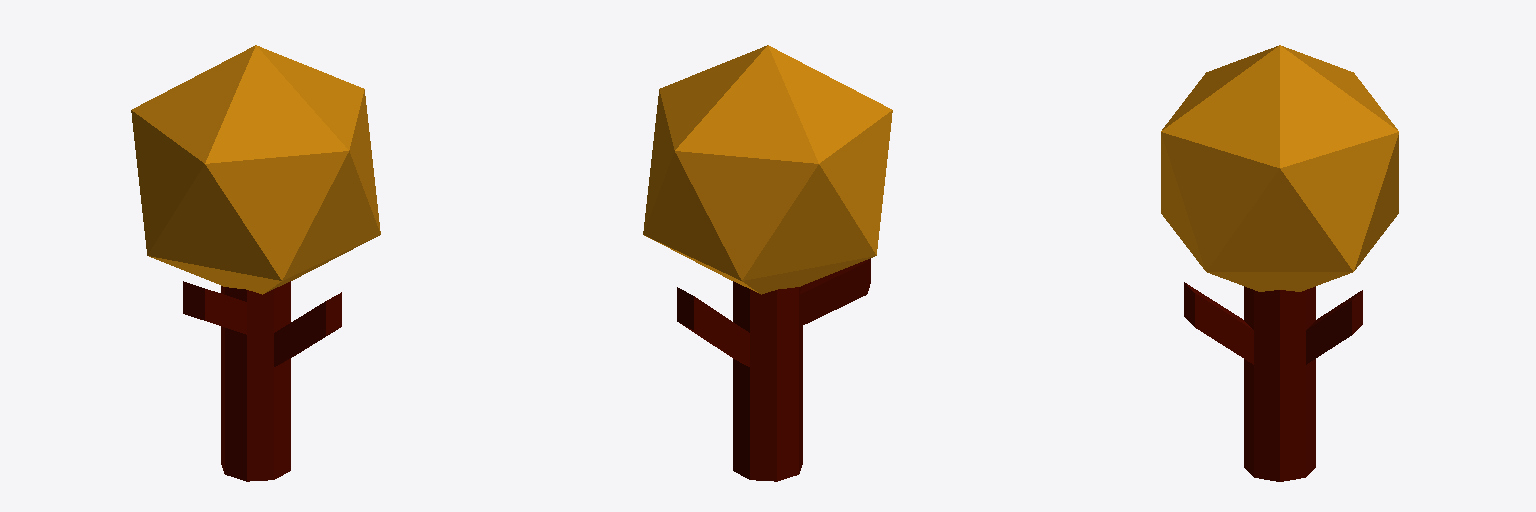
File: Tree.obj
3 views of the same model, side by side, from view 1: azimuth 30°, elevation 25°; view 2: azimuth 150°, elevation 25°; view 3: azimuth 270°, elevation 25° (orthographic).
Visible parts, largest first — view 1: Icosphere_Icosphere.001, Cylinder; view 2: Icosphere_Icosphere.001, Cylinder; view 3: Icosphere_Icosphere.001, Cylinder.
Boxes of the visible parts, <box> form: Icosphere_Icosphere.001: <box>131,45,380,294</box>; Cylinder: <box>183,281,341,481</box>; Icosphere_Icosphere.001: <box>643,45,892,294</box>; Cylinder: <box>677,258,870,481</box>; Icosphere_Icosphere.001: <box>1161,45,1398,291</box>; Cylinder: <box>1184,282,1362,481</box>.
Bounding box in the file's own units: 3.88 × 7.19 × 3.69.